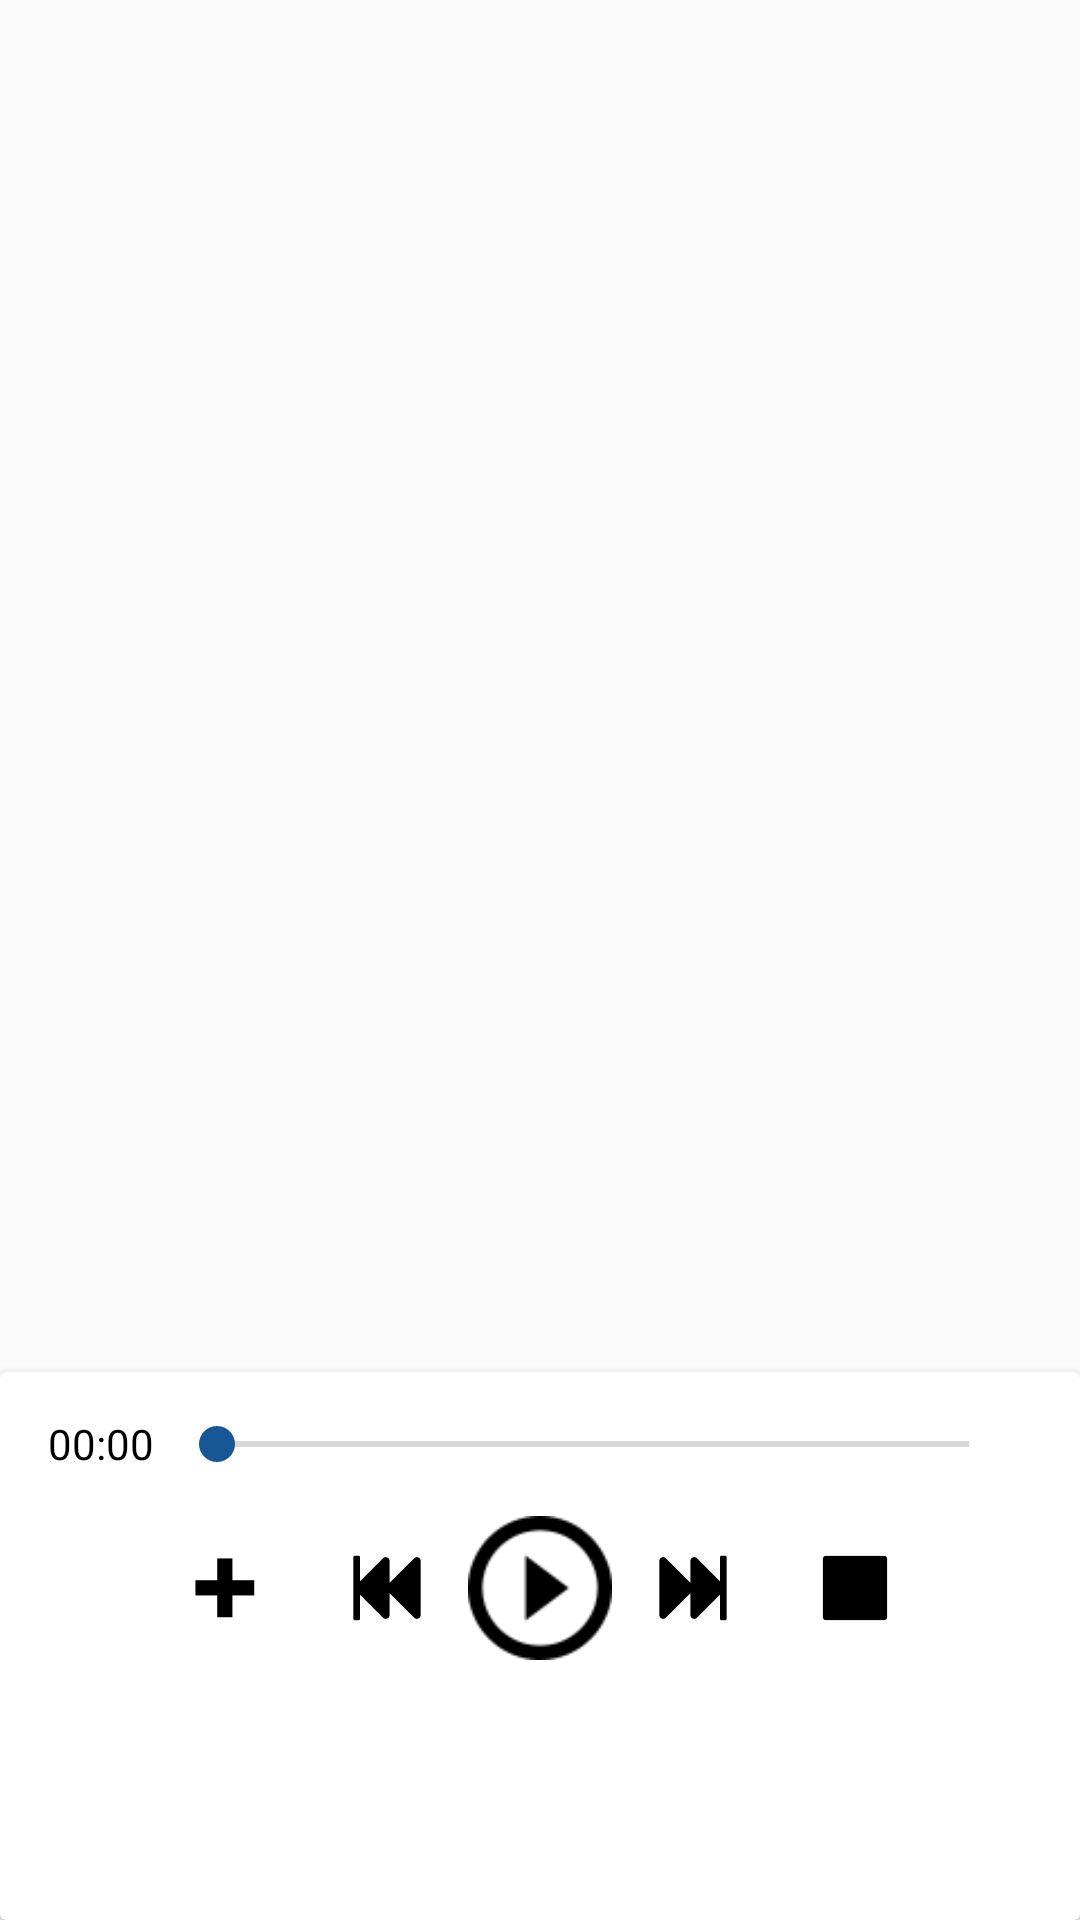

Locate icon controls on the screen. Image size 1080×1920, boxes as Rect(x1, y1, x2, y2).
controller next: Rect(659, 1555, 727, 1621)
controller prev: Rect(353, 1555, 421, 1621)
controller stop: Rect(822, 1555, 887, 1620)
play pause tbutton: Rect(468, 1516, 612, 1660)
